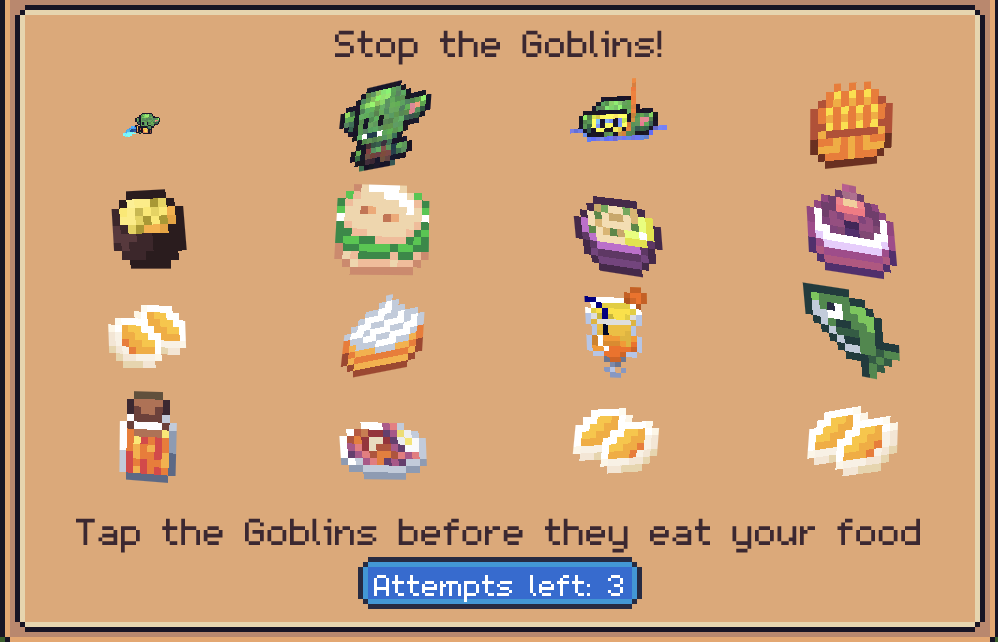capcha_goblin: (336, 78, 434, 173), (570, 77, 670, 143), (121, 111, 161, 137)
